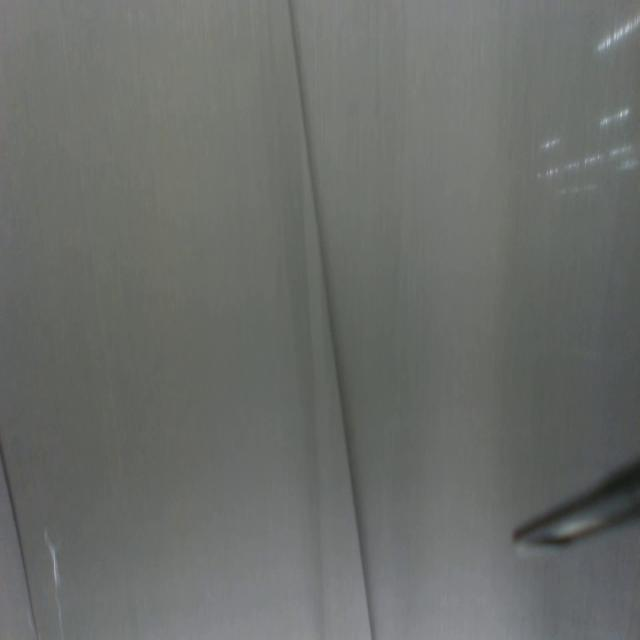crease: (281, 0, 378, 639), (0, 446, 44, 636)
